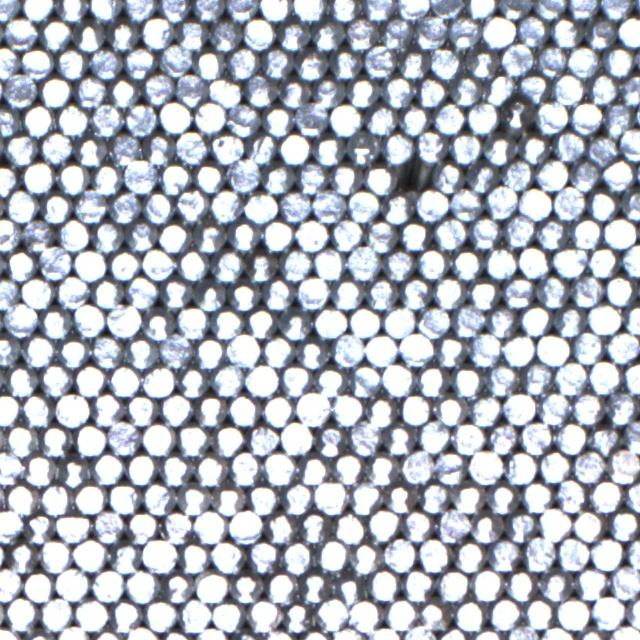tool: (468, 449, 502, 484), (295, 274, 329, 309), (193, 569, 228, 603), (3, 73, 37, 107), (536, 274, 570, 308), (2, 303, 36, 337), (262, 451, 296, 485), (158, 99, 192, 133), (314, 479, 348, 513), (588, 359, 622, 393), (382, 537, 416, 571), (38, 422, 72, 456), (261, 334, 295, 368), (348, 480, 382, 514), (484, 184, 518, 218), (55, 274, 89, 308), (606, 507, 640, 541), (362, 43, 396, 77), (570, 273, 604, 307), (380, 362, 414, 396), (192, 219, 226, 253), (107, 419, 141, 453), (107, 304, 141, 338), (228, 508, 262, 542), (554, 478, 588, 512), (412, 14, 446, 48), (158, 333, 192, 367), (55, 566, 89, 600), (210, 539, 244, 573), (246, 539, 280, 573), (226, 158, 260, 192), (122, 159, 156, 193), (605, 390, 639, 424), (74, 597, 108, 631), (539, 568, 573, 602), (55, 392, 88, 427), (418, 537, 451, 571), (40, 129, 73, 163), (331, 276, 364, 310), (522, 536, 556, 569), (607, 448, 640, 482), (364, 333, 398, 366), (417, 305, 450, 339), (417, 419, 450, 453), (280, 481, 313, 515), (294, 218, 328, 251), (469, 332, 502, 366), (399, 332, 432, 366), (4, 247, 38, 280), (589, 479, 622, 513), (143, 598, 177, 631), (91, 333, 124, 367), (91, 392, 124, 426), (587, 302, 621, 335), (522, 596, 555, 630), (590, 537, 624, 570), (316, 538, 349, 572), (433, 452, 467, 485), (245, 362, 278, 396), (485, 421, 519, 454), (3, 16, 37, 49), (537, 507, 571, 540), (332, 511, 366, 544), (364, 219, 398, 252), (348, 598, 381, 632), (488, 597, 522, 630), (55, 103, 89, 136), (556, 596, 590, 629), (265, 510, 298, 544), (487, 538, 521, 571), (436, 508, 470, 541), (158, 42, 192, 75), (315, 423, 348, 457), (20, 275, 53, 309), (39, 245, 72, 279), (556, 536, 589, 570), (39, 305, 72, 339), (364, 104, 398, 137), (313, 246, 346, 280), (56, 334, 90, 367), (470, 567, 504, 600), (432, 217, 466, 250), (211, 598, 244, 632), (56, 161, 90, 194), (91, 568, 124, 602), (484, 362, 518, 395), (123, 101, 156, 135), (158, 161, 192, 194), (605, 330, 639, 363), (551, 72, 584, 106), (591, 594, 624, 628), (175, 130, 208, 164), (261, 393, 295, 426), (436, 568, 469, 602), (176, 422, 209, 456), (5, 188, 38, 222), (108, 133, 142, 166), (552, 245, 586, 278), (346, 130, 380, 163), (451, 364, 484, 398), (226, 102, 259, 136), (502, 390, 536, 423), (177, 364, 210, 398), (554, 420, 588, 453), (73, 302, 106, 336), (177, 482, 210, 516), (553, 304, 586, 338), (22, 218, 55, 252), (452, 598, 486, 631), (520, 419, 552, 454), (23, 452, 55, 487), (142, 538, 175, 571), (90, 102, 123, 135), (433, 275, 466, 308), (346, 245, 379, 278), (39, 74, 72, 107), (538, 449, 571, 482), (211, 249, 244, 282), (432, 101, 465, 134), (484, 245, 517, 278), (572, 449, 605, 482), (382, 305, 415, 338), (91, 276, 124, 309), (519, 187, 552, 220), (345, 16, 378, 49), (5, 597, 38, 630), (39, 16, 72, 49), (92, 508, 125, 541), (570, 101, 603, 134), (242, 16, 275, 49), (245, 422, 278, 455), (210, 306, 243, 339), (347, 305, 380, 338), (194, 453, 227, 486), (466, 101, 499, 134), (107, 481, 140, 514), (521, 479, 554, 512), (536, 333, 569, 366), (211, 131, 244, 164), (535, 100, 568, 133), (261, 218, 294, 251), (5, 423, 38, 456), (418, 481, 451, 514), (92, 451, 125, 484), (157, 219, 190, 252), (471, 510, 504, 543), (278, 131, 311, 164), (312, 133, 345, 166), (5, 482, 38, 515), (141, 15, 174, 48), (486, 481, 519, 514), (549, 15, 582, 48), (208, 75, 241, 108), (434, 393, 467, 426), (517, 71, 550, 104), (517, 131, 550, 164), (535, 157, 568, 190), (125, 452, 158, 485), (485, 305, 518, 338), (73, 538, 106, 571), (602, 158, 635, 191), (245, 250, 278, 283), (481, 14, 514, 47), (39, 596, 72, 629), (381, 130, 414, 163), (331, 393, 364, 426), (39, 189, 72, 222), (571, 391, 604, 424), (434, 333, 467, 366), (585, 132, 618, 165), (109, 598, 142, 631), (227, 218, 260, 251), (279, 421, 312, 454), (125, 569, 158, 602), (20, 393, 53, 426), (142, 131, 175, 164), (247, 598, 280, 631), (125, 509, 158, 542), (296, 391, 329, 424), (416, 364, 449, 397), (108, 540, 141, 573), (227, 333, 260, 366), (365, 395, 398, 428), (346, 188, 379, 221), (537, 392, 570, 425), (453, 539, 486, 572), (505, 568, 538, 601), (160, 570, 193, 603), (312, 189, 345, 222), (73, 422, 106, 455), (177, 540, 210, 573), (21, 569, 54, 602), (604, 274, 637, 307), (73, 19, 106, 52), (125, 335, 158, 368), (74, 133, 107, 166), (501, 215, 534, 248), (401, 568, 434, 601), (501, 100, 534, 133), (160, 452, 192, 486), (572, 507, 604, 541), (368, 507, 400, 541), (142, 420, 174, 454), (40, 362, 72, 396), (314, 305, 346, 339), (418, 597, 450, 631), (260, 46, 294, 78), (212, 482, 244, 516), (469, 392, 501, 426), (367, 452, 399, 486), (265, 570, 297, 604), (194, 100, 226, 134), (296, 336, 330, 368), (160, 509, 192, 543), (55, 510, 89, 542), (448, 15, 480, 49), (298, 452, 330, 486), (502, 275, 534, 309), (73, 481, 105, 515), (468, 215, 500, 249), (451, 304, 483, 338), (22, 102, 54, 136), (415, 188, 449, 220), (554, 360, 586, 394), (125, 392, 157, 426), (278, 308, 312, 340), (39, 538, 71, 571), (332, 452, 365, 484), (194, 508, 226, 541), (347, 75, 379, 108), (520, 303, 552, 336), (382, 247, 414, 280), (142, 247, 174, 280), (468, 277, 500, 310), (384, 598, 417, 630), (55, 46, 88, 78), (534, 43, 566, 76), (415, 130, 448, 162), (40, 482, 72, 515), (142, 481, 174, 514), (193, 46, 225, 79), (228, 452, 261, 484), (90, 46, 122, 79), (572, 330, 604, 363), (5, 132, 38, 164), (520, 362, 553, 394), (262, 278, 294, 311), (91, 219, 123, 252), (449, 130, 481, 163), (230, 572, 263, 604), (567, 44, 599, 77), (142, 71, 174, 104), (296, 160, 328, 193), (329, 46, 362, 78), (212, 422, 244, 455), (57, 218, 90, 250), (193, 160, 225, 193), (194, 394, 227, 426), (518, 244, 550, 277), (279, 247, 311, 280), (583, 16, 615, 49), (502, 333, 534, 366), (586, 244, 618, 277), (109, 247, 141, 280), (208, 18, 241, 50), (366, 277, 398, 310), (312, 18, 344, 51), (569, 159, 602, 191), (107, 76, 140, 108), (500, 42, 532, 75), (482, 72, 515, 104), (330, 217, 362, 250), (261, 103, 293, 136), (245, 132, 278, 164), (178, 598, 211, 630), (247, 482, 279, 515), (296, 48, 328, 81), (298, 511, 330, 544), (398, 218, 431, 250), (22, 160, 54, 193), (398, 103, 431, 135), (212, 363, 244, 396), (448, 75, 481, 107), (574, 566, 607, 598), (381, 422, 414, 454), (142, 364, 175, 396), (160, 392, 192, 425), (450, 247, 482, 280), (280, 363, 312, 396), (262, 162, 295, 194), (142, 308, 175, 340), (449, 187, 481, 220), (482, 132, 514, 165), (22, 334, 54, 367), (314, 365, 347, 397), (553, 186, 585, 219), (588, 422, 621, 454), (400, 277, 432, 310), (278, 18, 311, 50), (57, 455, 90, 487), (176, 248, 209, 280), (329, 102, 362, 134), (106, 19, 139, 51), (504, 451, 536, 484), (311, 78, 344, 110), (123, 45, 155, 78), (108, 364, 141, 396), (451, 422, 484, 454), (298, 570, 330, 603), (400, 450, 432, 483), (226, 46, 259, 78), (125, 276, 158, 308), (74, 363, 106, 396), (281, 540, 313, 573), (142, 189, 174, 222), (603, 216, 636, 248), (329, 162, 362, 194), (108, 190, 140, 223), (5, 540, 38, 572), (367, 568, 400, 600), (553, 129, 585, 162), (504, 510, 537, 542), (402, 509, 434, 542), (399, 392, 432, 424), (278, 189, 310, 222), (175, 188, 208, 220), (602, 102, 634, 135), (210, 188, 242, 221), (73, 190, 106, 222), (378, 16, 410, 49), (74, 75, 106, 108), (452, 482, 484, 515), (175, 72, 207, 105), (23, 510, 55, 543), (175, 18, 208, 50), (609, 564, 640, 598), (382, 75, 414, 107), (245, 306, 277, 338), (586, 73, 618, 105), (416, 246, 448, 278), (295, 103, 327, 135), (244, 74, 276, 106), (570, 216, 602, 248), (160, 277, 192, 309), (194, 336, 226, 368), (466, 47, 498, 79), (536, 217, 568, 249), (332, 334, 364, 366), (348, 422, 380, 454), (316, 597, 348, 629), (416, 76, 448, 108), (90, 163, 122, 195), (21, 46, 53, 78), (228, 393, 260, 425), (244, 190, 276, 222), (397, 48, 429, 80), (517, 14, 549, 46), (587, 188, 619, 220), (6, 364, 38, 396), (602, 44, 634, 76), (196, 280, 228, 312), (282, 600, 314, 632), (364, 162, 396, 194), (381, 192, 413, 224), (432, 160, 464, 192), (348, 364, 380, 396), (429, 46, 461, 78), (501, 158, 533, 190), (467, 162, 499, 194), (228, 280, 260, 312), (176, 306, 208, 338), (384, 482, 416, 514), (278, 78, 310, 110), (348, 543, 380, 575), (74, 248, 106, 280), (125, 219, 157, 251), (334, 571, 366, 602), (404, 156, 435, 188), (0, 450, 23, 484), (0, 506, 22, 540), (617, 14, 640, 46), (0, 44, 21, 78), (0, 333, 21, 367), (56, 0, 88, 22), (619, 72, 640, 105), (0, 568, 21, 601), (225, 0, 258, 21), (620, 126, 640, 160), (0, 392, 20, 426), (292, 0, 326, 20), (0, 104, 20, 138), (122, 0, 156, 20), (158, 0, 190, 21), (362, 0, 394, 21), (621, 419, 640, 454), (0, 277, 20, 310), (0, 217, 20, 250), (396, 0, 429, 20), (259, 0, 292, 20), (21, 0, 54, 20), (328, 0, 359, 21), (620, 187, 640, 219), (0, 163, 20, 195), (192, 0, 224, 20), (621, 243, 640, 276), (600, 0, 633, 19), (567, 0, 600, 19), (533, 0, 566, 19), (89, 0, 121, 19), (498, 0, 532, 17), (466, 0, 498, 18), (431, 0, 463, 18), (623, 303, 640, 336), (608, 623, 640, 640), (623, 360, 640, 392), (624, 478, 640, 512), (624, 595, 640, 628), (56, 625, 90, 640), (366, 625, 400, 640), (402, 625, 436, 640), (506, 625, 539, 640), (540, 625, 573, 640), (625, 536, 640, 568), (0, 0, 19, 20)
